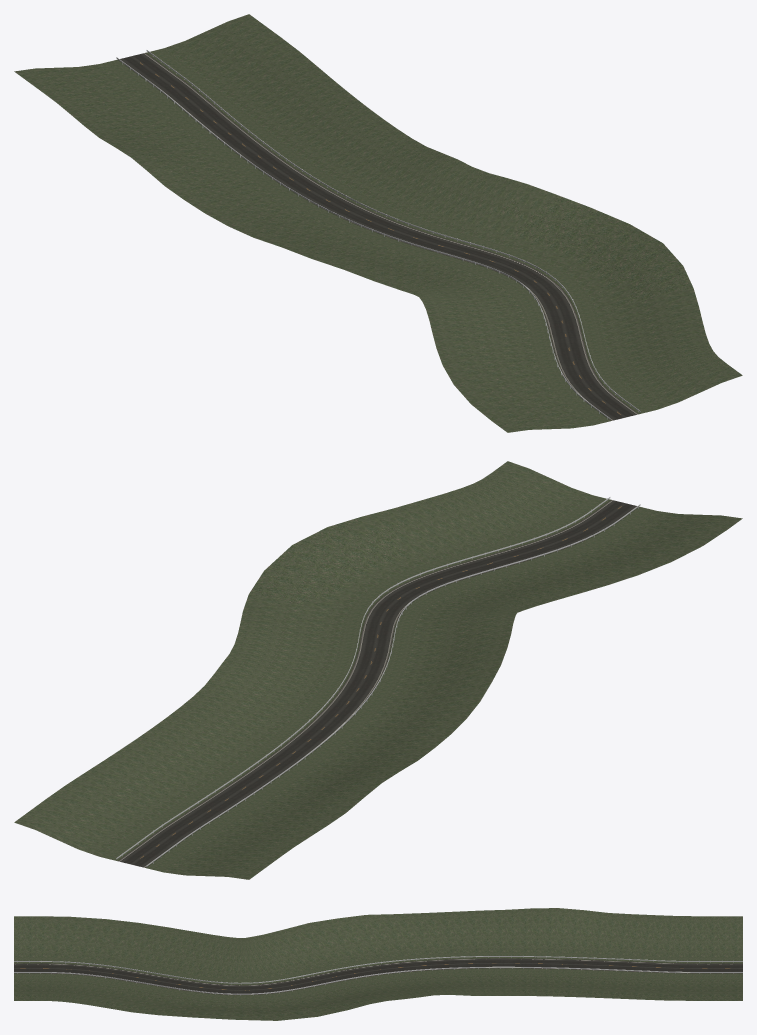
The picture shows the model from 3 angles, top to bottom: view 1: azimuth 30°, elevation 25°; view 2: azimuth 150°, elevation 25°; view 3: azimuth 270°, elevation 25°; orthographic projection. The views are drawn at different scales.
Visible parts, largest first — view 1: Grass, HighWay, Guard-Rail; view 2: Grass, HighWay, Guard-Rail; view 3: Grass, HighWay, Guard-Rail.
Part boxes in pixels (x1,y1,x2,y2): Grass: (14,14,742,432); HighWay: (117,52,639,420); Guard-Rail: (116,50,640,419); Grass: (14,461,742,879); HighWay: (117,499,639,867); Guard-Rail: (116,497,640,866); Grass: (14,908,742,1020); HighWay: (14,958,742,995); Guard-Rail: (14,956,742,995).
Size of what is drawn, in the model's own units: 146 by 9.78 by 400.
